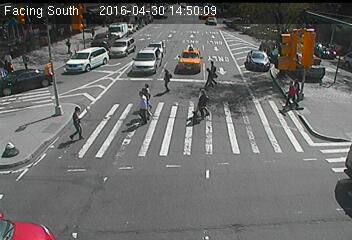neg: (90, 157, 119, 195), (236, 113, 264, 150), (21, 162, 48, 198), (191, 22, 216, 56), (243, 148, 266, 179), (154, 24, 173, 51), (297, 38, 315, 61), (256, 36, 273, 59), (223, 36, 236, 54)
pos: (63, 102, 92, 141), (189, 87, 216, 123), (35, 58, 59, 89), (154, 66, 175, 94), (16, 49, 32, 71), (60, 35, 75, 56), (86, 24, 98, 41)
